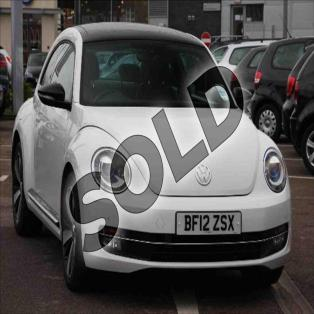Auto: (11, 23, 291, 293)
